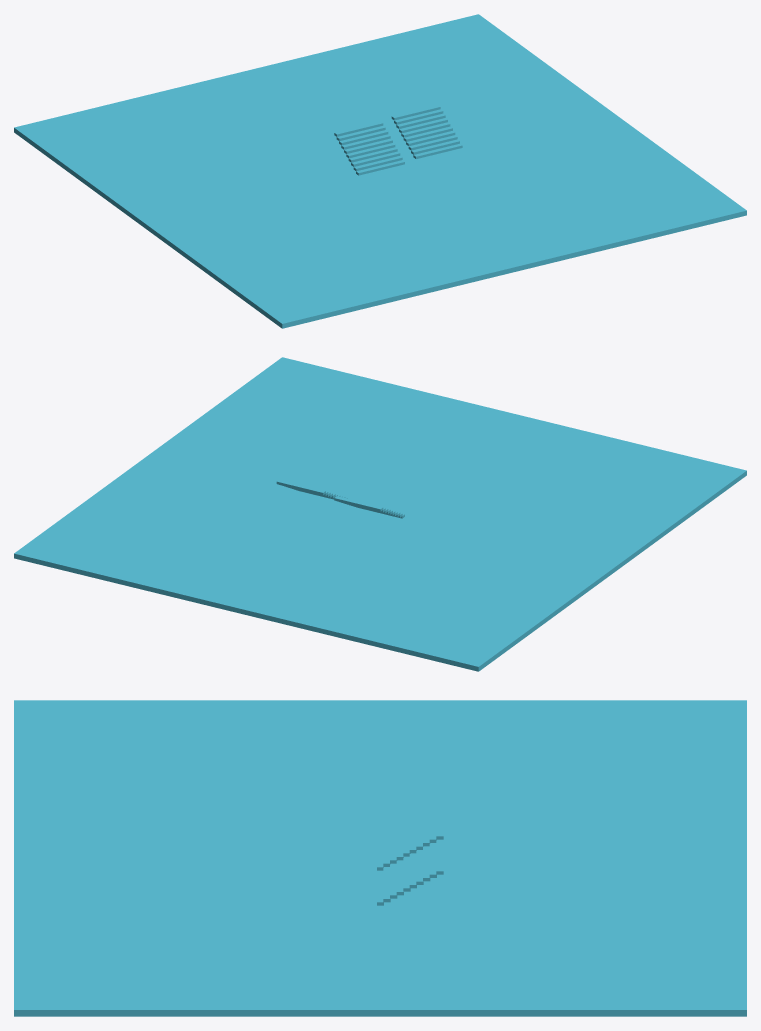
The model's file is EscalierM.dae.
The picture shows the model from 3 angles, top to bottom: view 1: azimuth 30°, elevation 25°; view 2: azimuth 150°, elevation 25°; view 3: azimuth 270°, elevation 25°; orthographic projection. The views are drawn at different scales.
Parts seen in each view (by area): view 1: Bo_te21_PIVOT; view 2: Bo_te21_PIVOT; view 3: Bo_te21_PIVOT.
Part boxes in pixels (x1=…): Bo_te21_PIVOT: x1=14, y1=14, x2=746, y2=328; Bo_te21_PIVOT: x1=14, y1=357, x2=746, y2=671; Bo_te21_PIVOT: x1=14, y1=700, x2=746, y2=1016.
Bounding box in the file's own units: 100 × 100 × 6.68.
